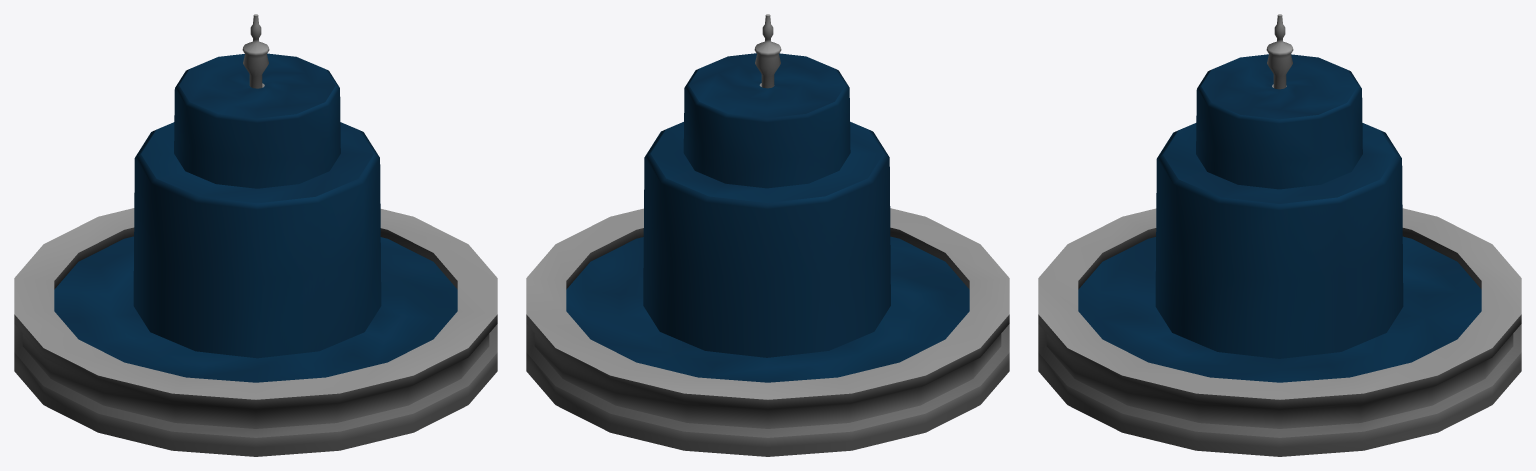
File: Fountain_Filled.fbx
3 renders of one model, left to right at view 1: azimuth 30°, elevation 25°; view 2: azimuth 150°, elevation 25°; view 3: azimuth 270°, elevation 25°, orthographic.
Visible parts, largest first — view 1: Fountain_Filled; view 2: Fountain_Filled; view 3: Fountain_Filled.
Boxes of the visible parts, x1,y1,x2,y2 form: Fountain_Filled: (14,14,497,456); Fountain_Filled: (526,14,1009,456); Fountain_Filled: (1038,14,1521,456).
Bounding box in the file's own units: 523 × 398 × 516.
